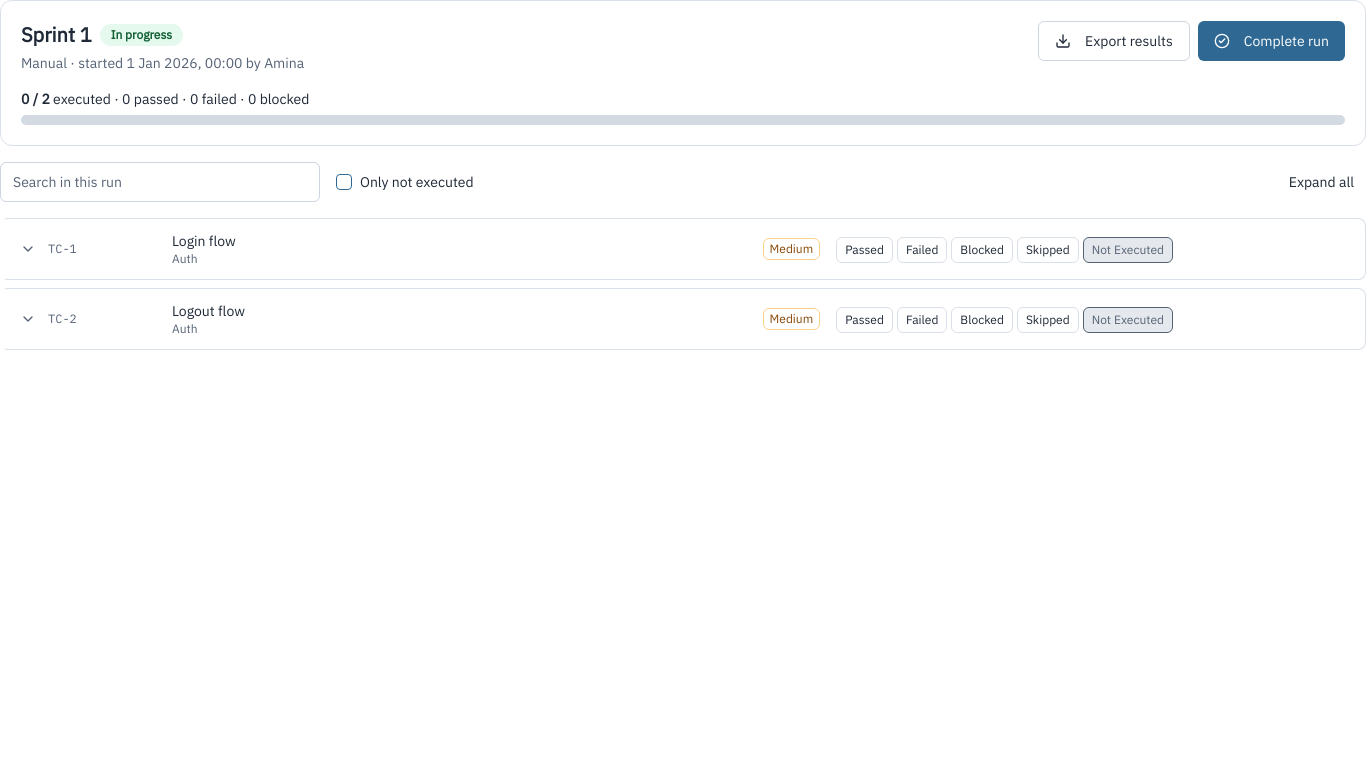
RunExecution › blocks completing the run while a result is still saving
What coordinates should you click on to do the following:
click the 1st radio button labelled "Passed"
I would click on:
 (865, 249)
Its box is top-left (836, 236), bottom-right (893, 262).
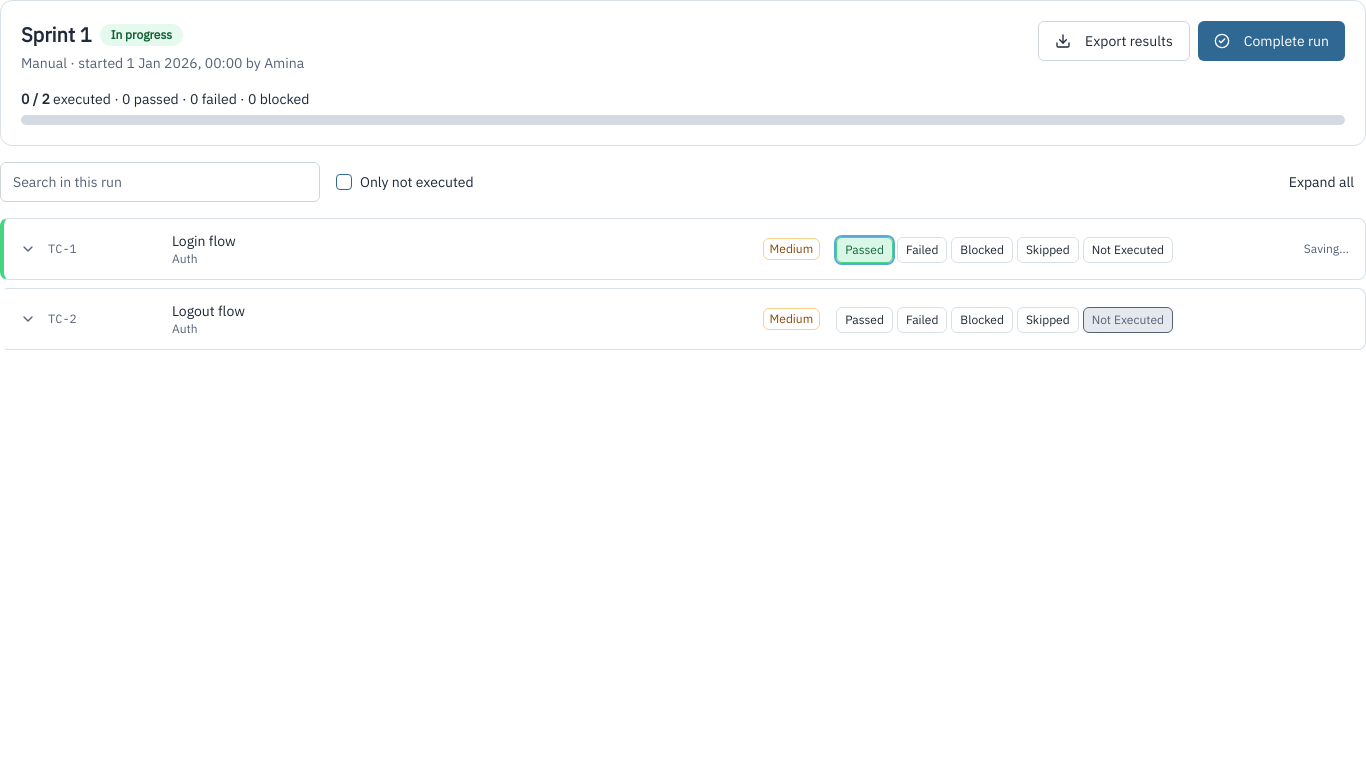
Result: the text "Saving…" is shown at top-left (1304, 241), bottom-right (1349, 257)
What coordinates should you click on to do the following:
click the button "Complete run"
I would click on:
 (1271, 41)
Its box is top-left (1198, 21), bottom-right (1345, 61).
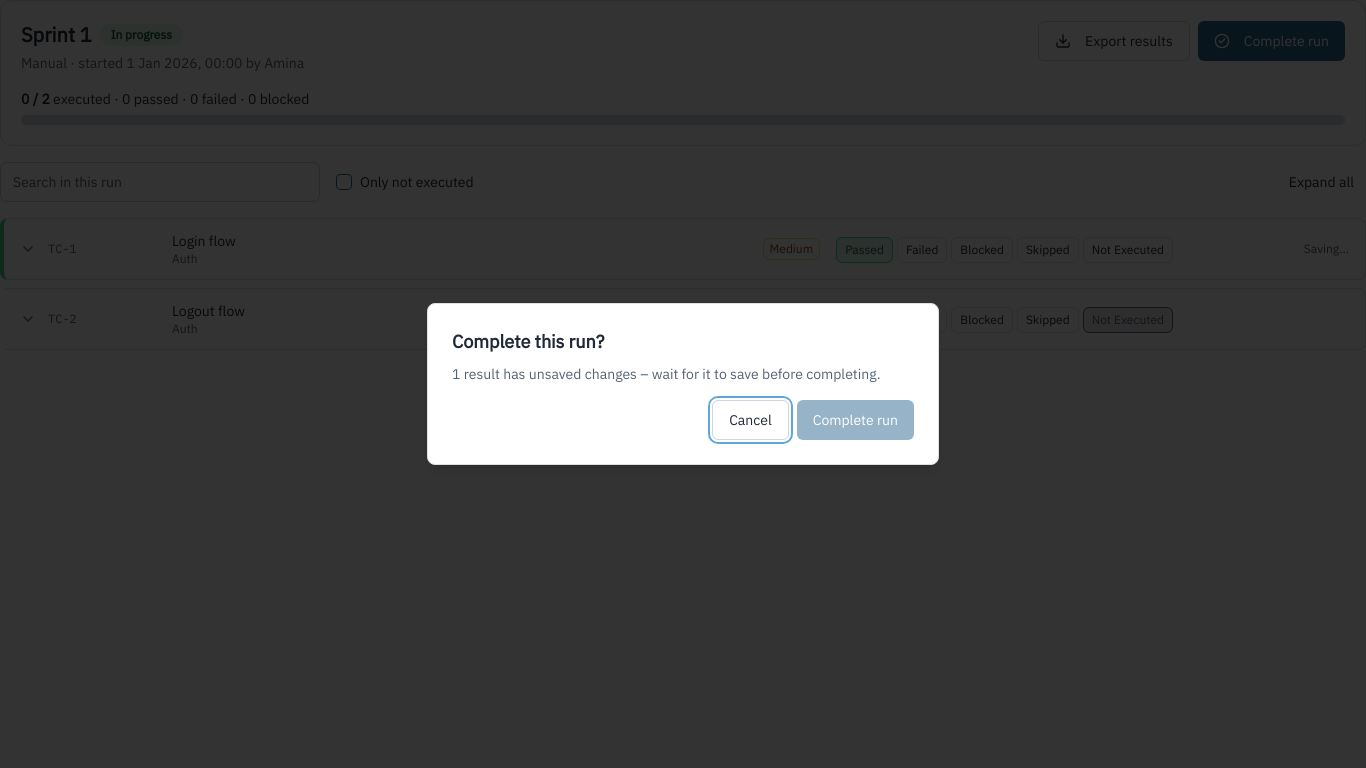
Result: the dialog shows "1 result has unsaved changes – wait for it to save before completing." at top-left (452, 365), bottom-right (881, 383)
Result: the button "Complete run" is disabled at top-left (797, 400), bottom-right (914, 440)
